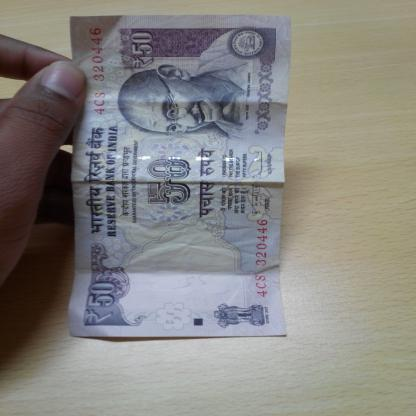Old50Front: (67, 13, 292, 342)
